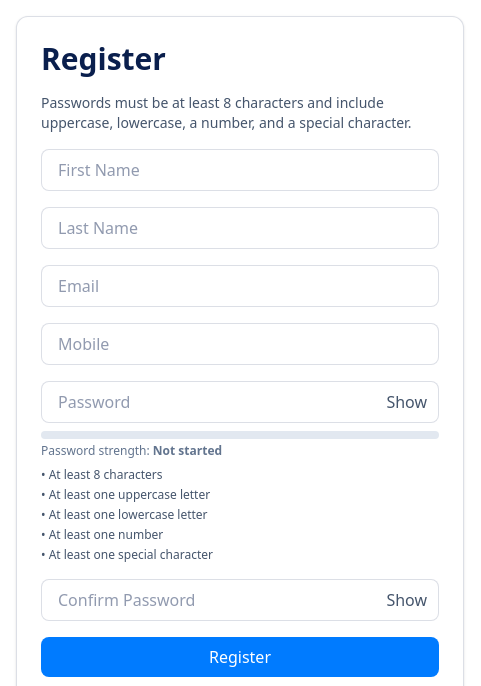
it: RegisterPage › shows validation error when last name is missing
Type "Sean" into the field with placeholder "First Name".
click(240, 170); type("Sean")  # box [41,149,439,191]
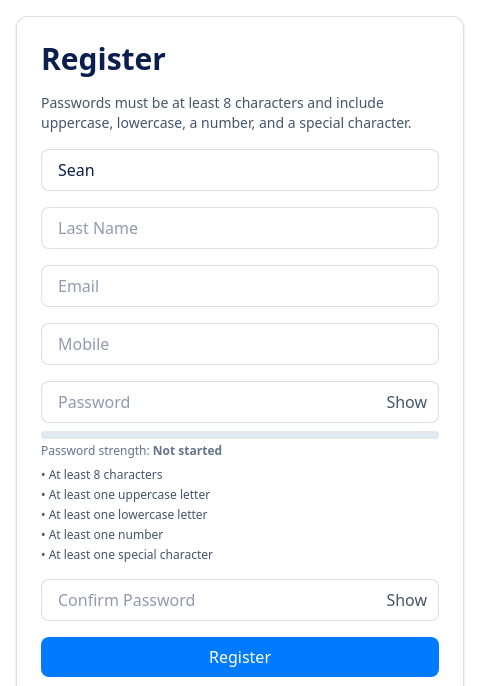
Type "sean@example.com" into the field with placeholder "Email".
click(240, 286); type("sean@example.com")  # box [41,265,439,307]
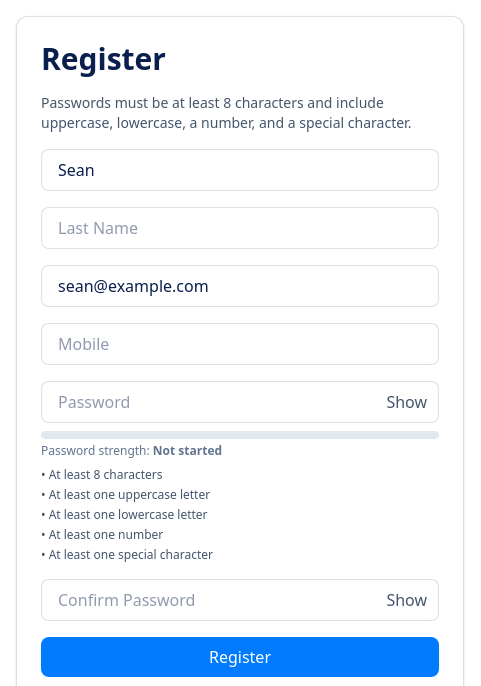
Type "0871234567" into the field with placeholder "Mobile".
click(240, 344); type("0871234567")  # box [41,323,439,365]
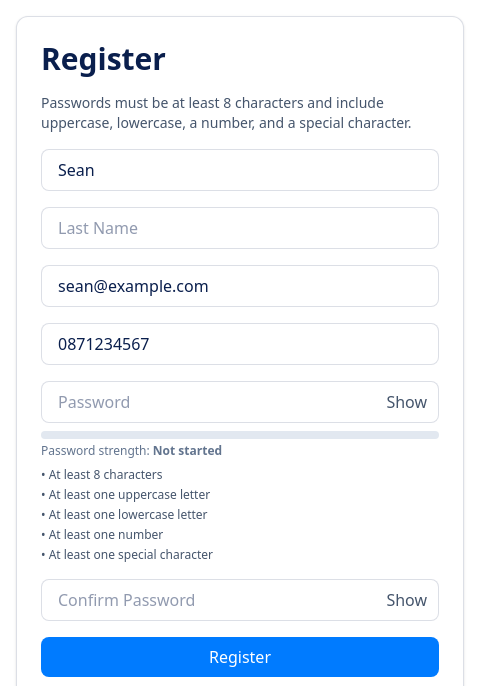
Type "Password123!" into the password field with placeholder "Password".
click(240, 402); type("Password123!")  # box [41,381,439,423]
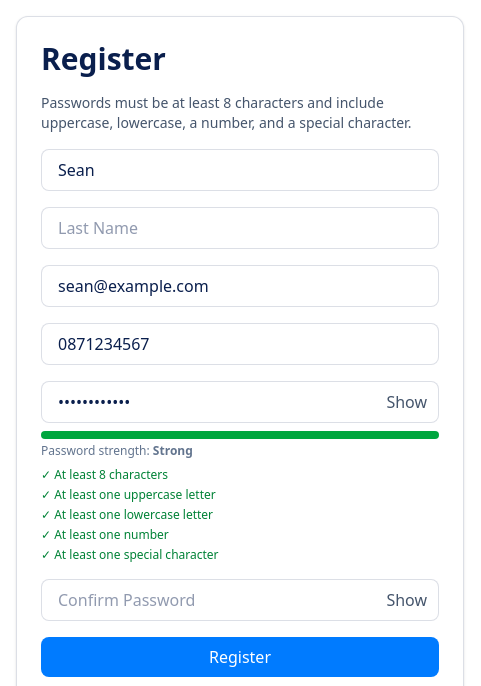
Type "Password123!" into the password field with placeholder "Confirm Password".
click(240, 600); type("Password123!")  # box [41,579,439,621]
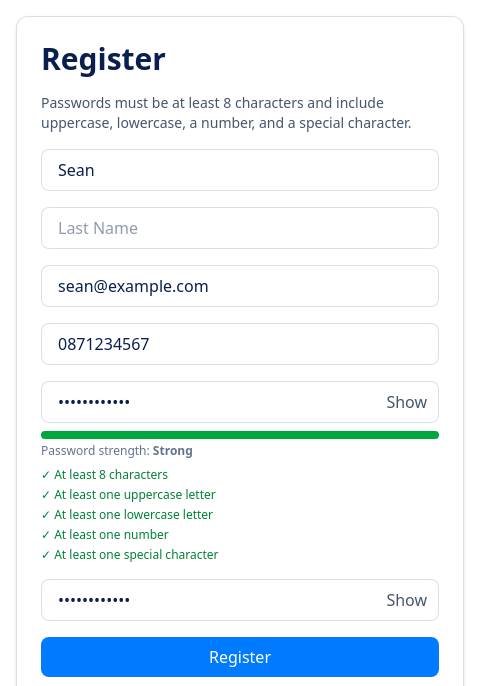
Click the button "Register".
click(240, 657)  # box [41,637,439,677]
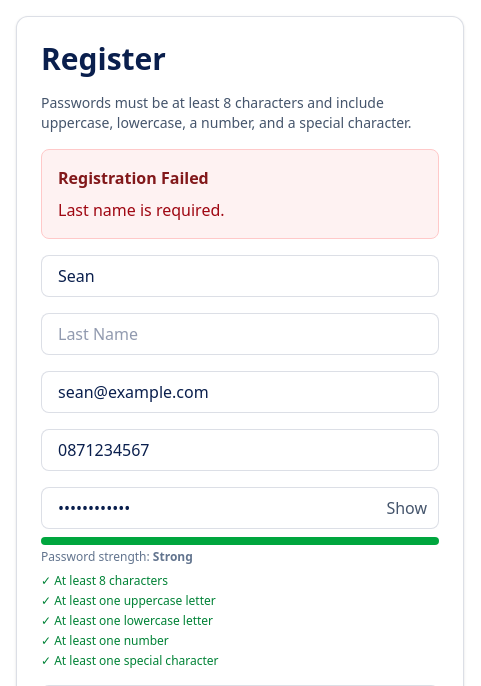
Expected: the text "Last name is required." is shown, [58,199,224,221]
